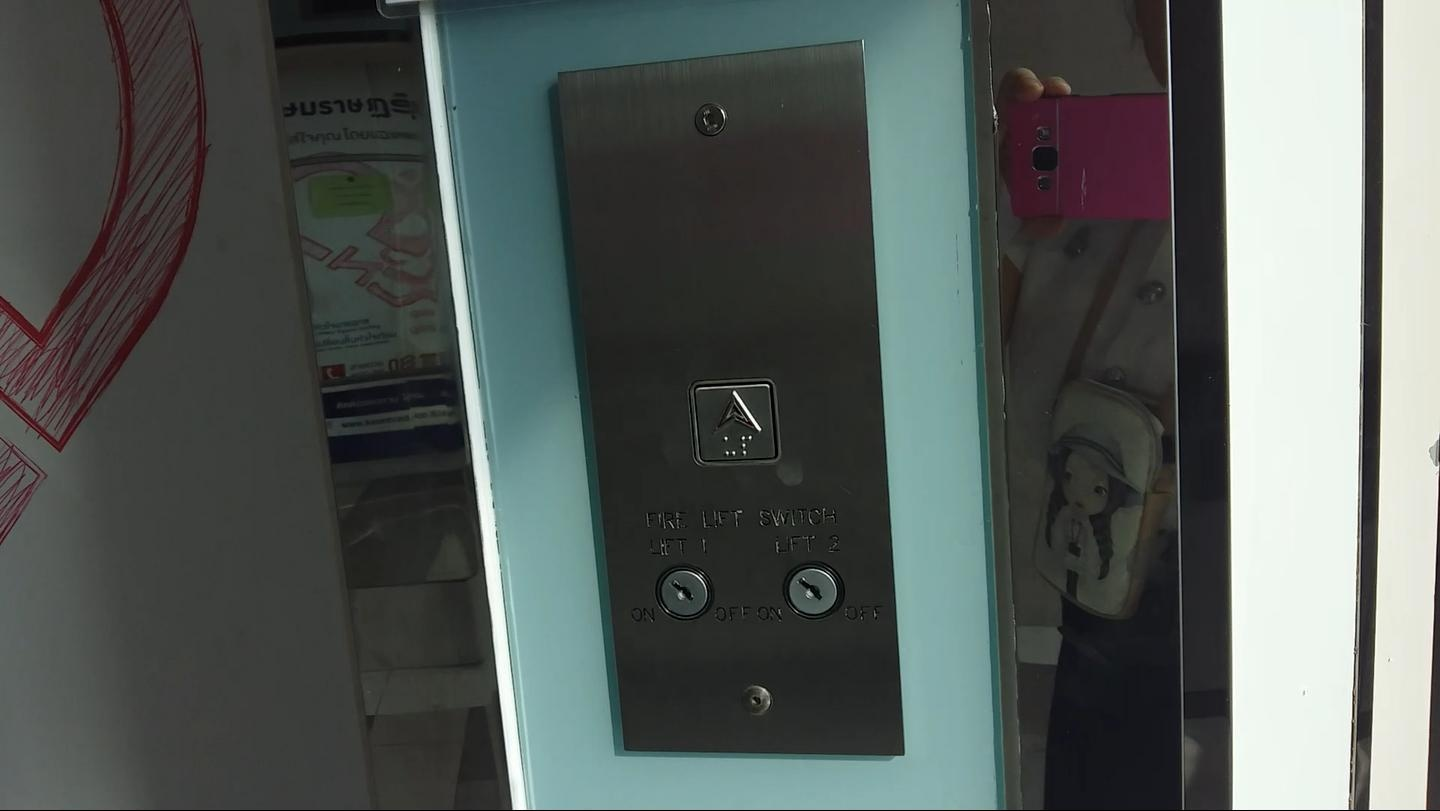keyhole: (656, 565, 714, 622), (786, 561, 842, 618)
up: (689, 377, 782, 465)
